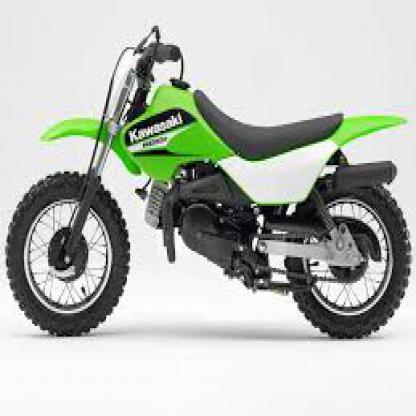Motorcycle: (6, 12, 414, 349)
